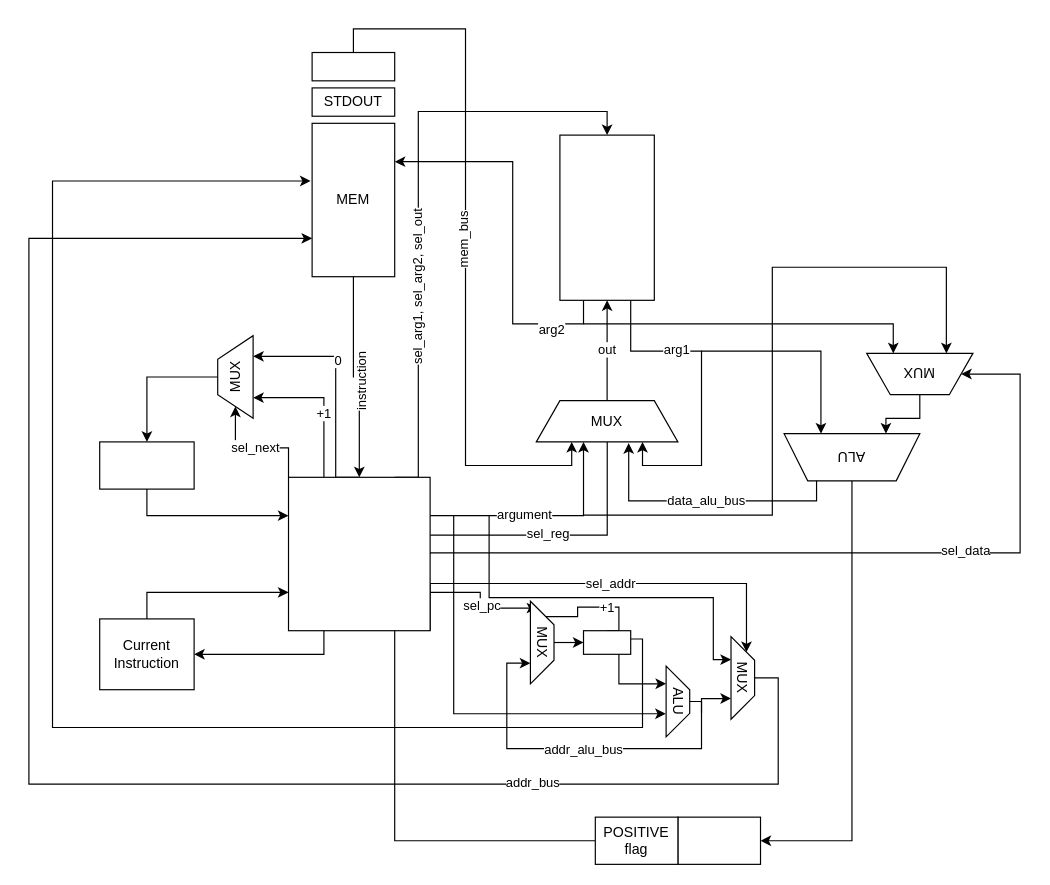
Some shapes in this 1050 by 885 pixel diagram are drawn without their labels. Each missing label, with the centre of its shape:
Instruction Decoder: point 358,553
PC: point 606,642
RegFile r1 r2 r3 r4 r5: point 606,217
STDIN: point 353,66
Step Counter: point 146,465
ZERO flag: point 719,840
